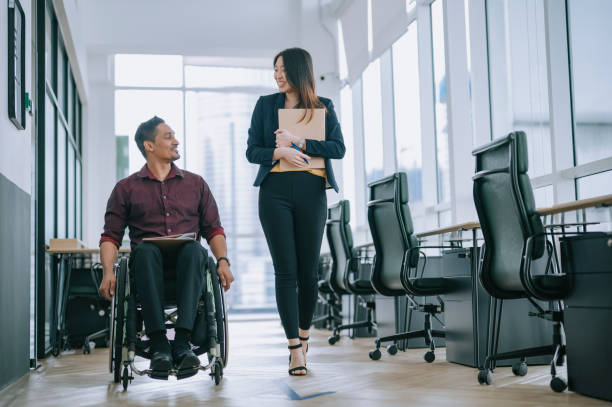25: (202, 264, 227, 387)
36: (108, 247, 135, 393)
41: (277, 108, 312, 144), (277, 108, 308, 130)
56: (471, 131, 573, 393), (366, 172, 474, 364), (106, 238, 228, 386), (327, 193, 420, 366), (367, 174, 442, 362), (324, 196, 380, 351), (45, 238, 111, 357), (101, 239, 134, 388)
62: (367, 172, 419, 294)
65: (275, 109, 305, 161)
9: (470, 132, 572, 392), (471, 131, 549, 302)
handguns: (97, 115, 235, 383), (245, 47, 345, 378)
